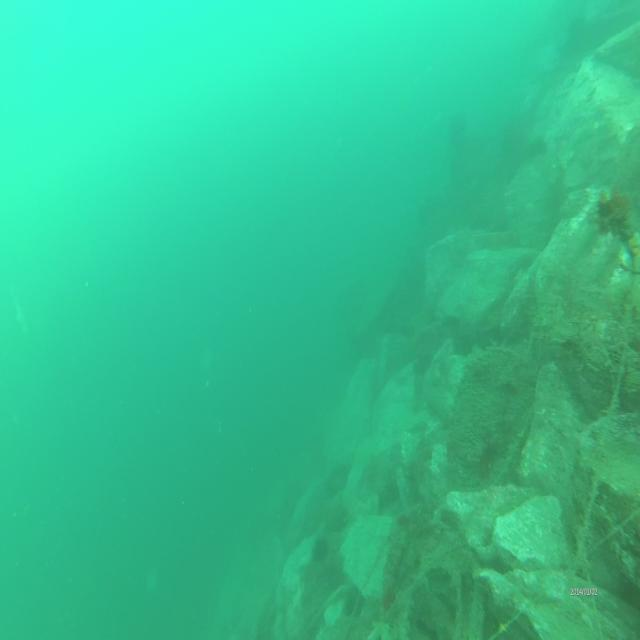echinus: (322, 496, 348, 535), (528, 133, 550, 167), (311, 534, 328, 560)
